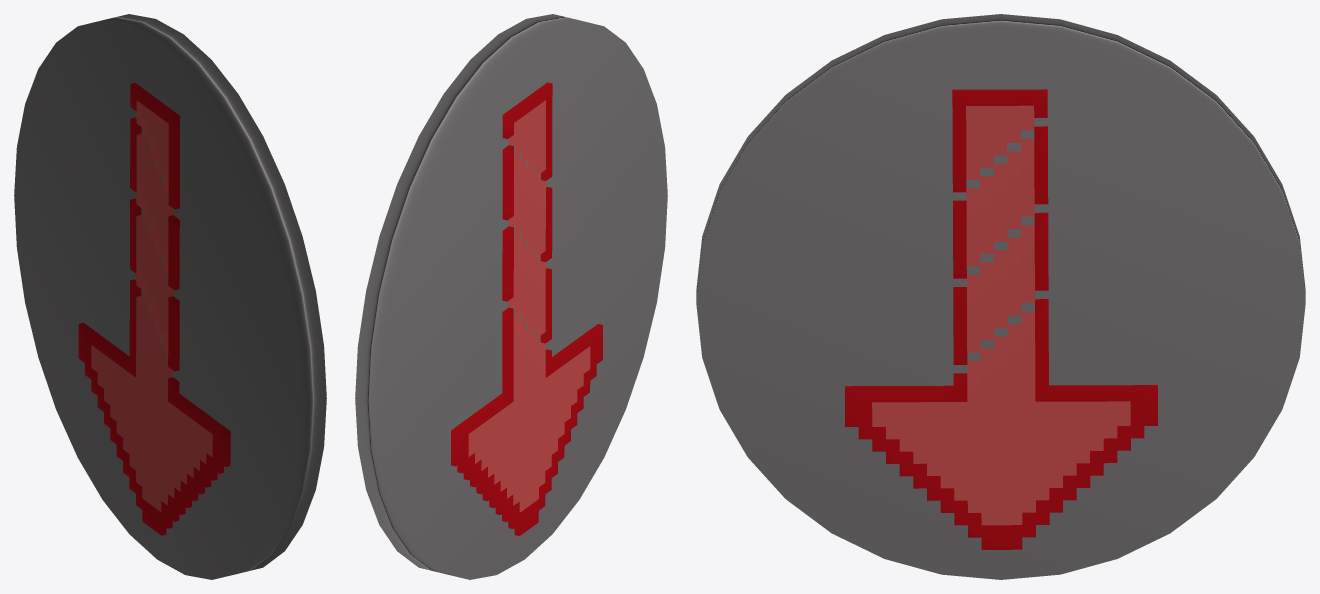
Rendered from accelerateicon3.fbx.
3 renders of one model, left to right at view 1: azimuth 30°, elevation 25°; view 2: azimuth 150°, elevation 25°; view 3: azimuth 270°, elevation 25°, orthographic. The views are drawn at different scales.
Parts seen in each view (by area): view 1: Cylinder; view 2: Cylinder; view 3: Cylinder.
Part boxes in pixels (x1,y1,x2,y2): Cylinder: [14, 14, 326, 579]; Cylinder: [355, 14, 667, 579]; Cylinder: [696, 14, 1305, 579].
Bounding box in the file's own units: 28.96 × 368 × 368.
